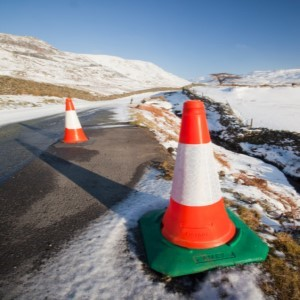traffic cone: (138, 99, 269, 277), (52, 96, 96, 149)
